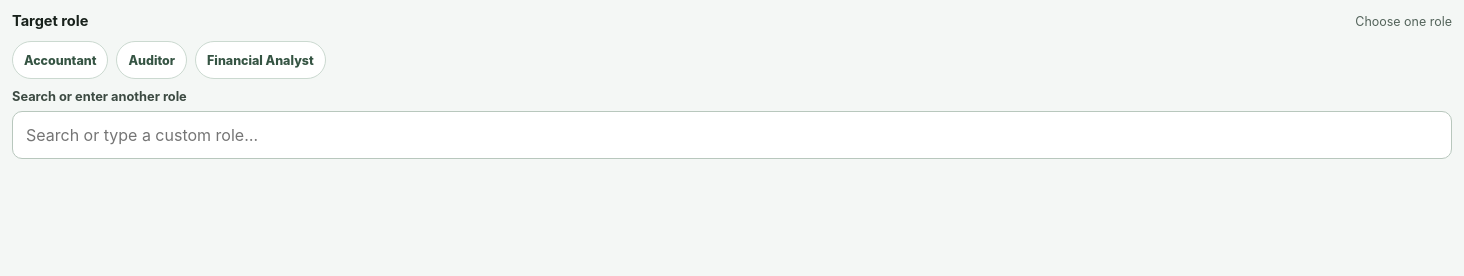
InterviewRoleSelector › filters only supplied roles and adopts one selected role
Type "aud" into the dropdown labelled "Target role". click: {"x": 732, "y": 135}
box: [12, 111, 1452, 159]
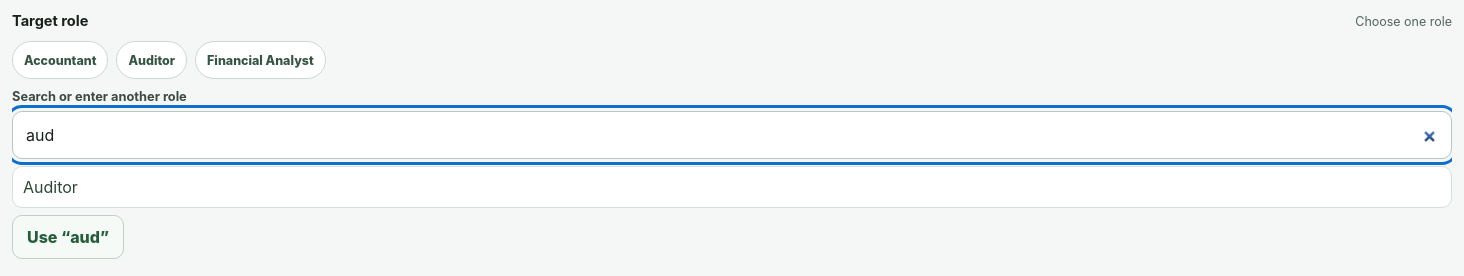
Now the option "Auditor" is shown
Click the option "Auditor". click: {"x": 50, "y": 187}
box: [13, 167, 1451, 207]
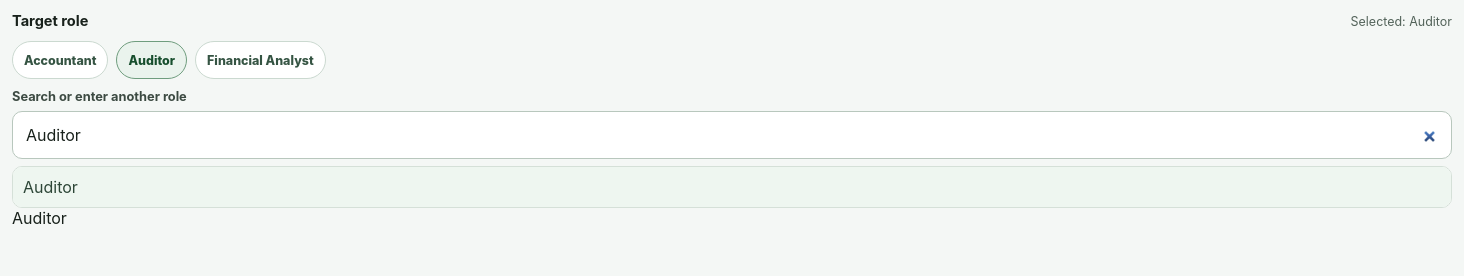
Now the text named "Selected role" reads "Auditor", box [12, 208, 67, 228]
